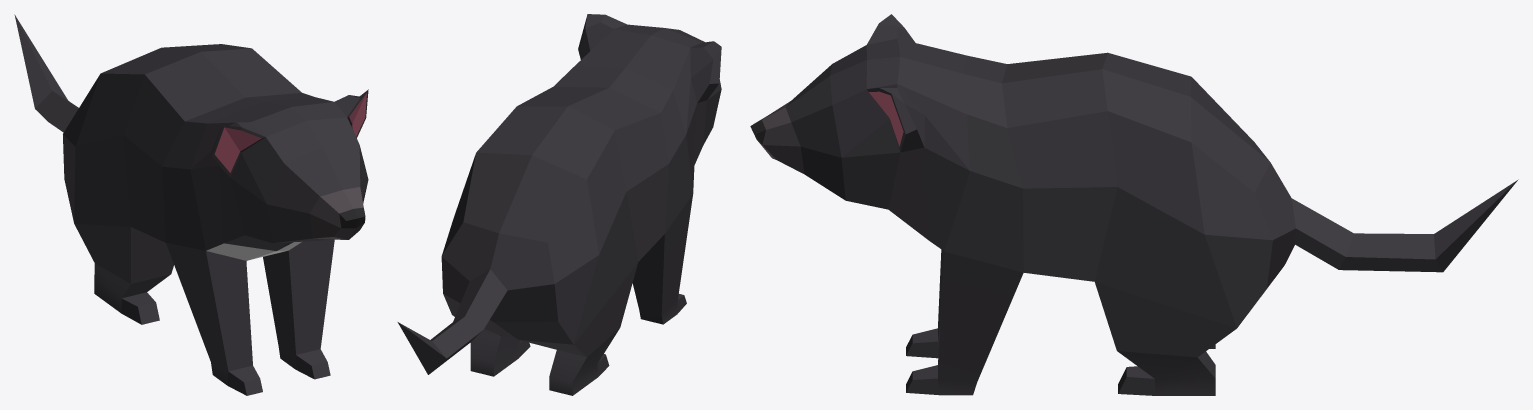
File: Model_Tasmaniadevil.fbx
3 views of the same model, side by side, from view 1: azimuth 30°, elevation 25°; view 2: azimuth 150°, elevation 25°; view 3: azimuth 270°, elevation 25° (orthographic). The views are drawn at different scales.
Visible parts, largest first — view 1: Tasmaniadevil; view 2: Tasmaniadevil; view 3: Tasmaniadevil.
Boxes of the visible parts, x1,y1,x2,y2 form: Tasmaniadevil: [14, 14, 368, 395]; Tasmaniadevil: [397, 14, 721, 395]; Tasmaniadevil: [750, 14, 1518, 395].
Bounding box in the file's own units: 37.4 × 63.55 × 140.
